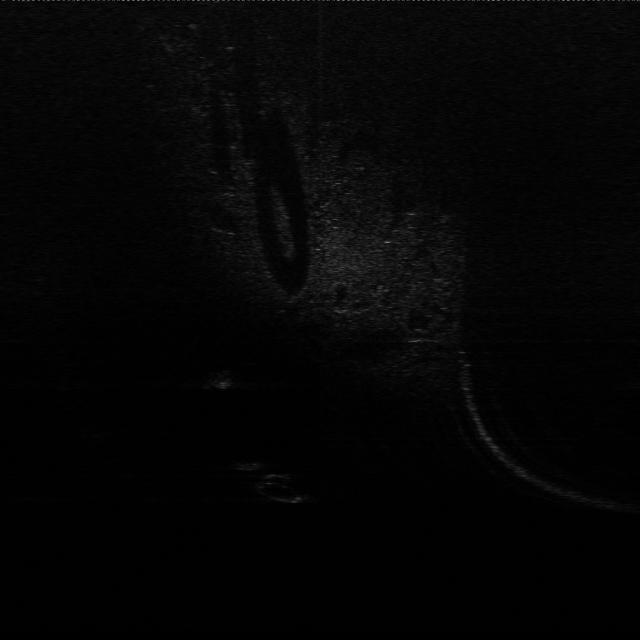cube: (231, 454, 267, 475)
square cage: (206, 368, 236, 392)
tyre: (257, 475, 314, 506)
